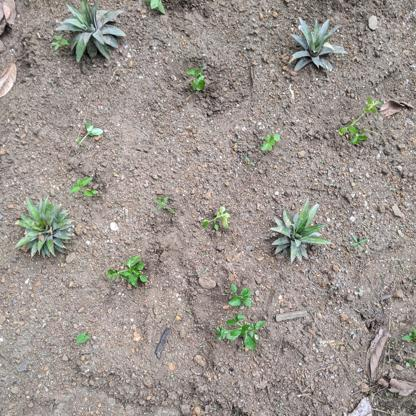pineapple: (54, 2, 127, 64), (268, 201, 337, 261), (284, 14, 348, 75), (15, 194, 74, 260)
weed: (220, 280, 268, 357), (339, 96, 382, 152), (104, 257, 155, 291), (73, 168, 112, 201), (200, 203, 233, 235), (182, 63, 213, 95), (152, 189, 183, 219), (254, 128, 284, 156)
